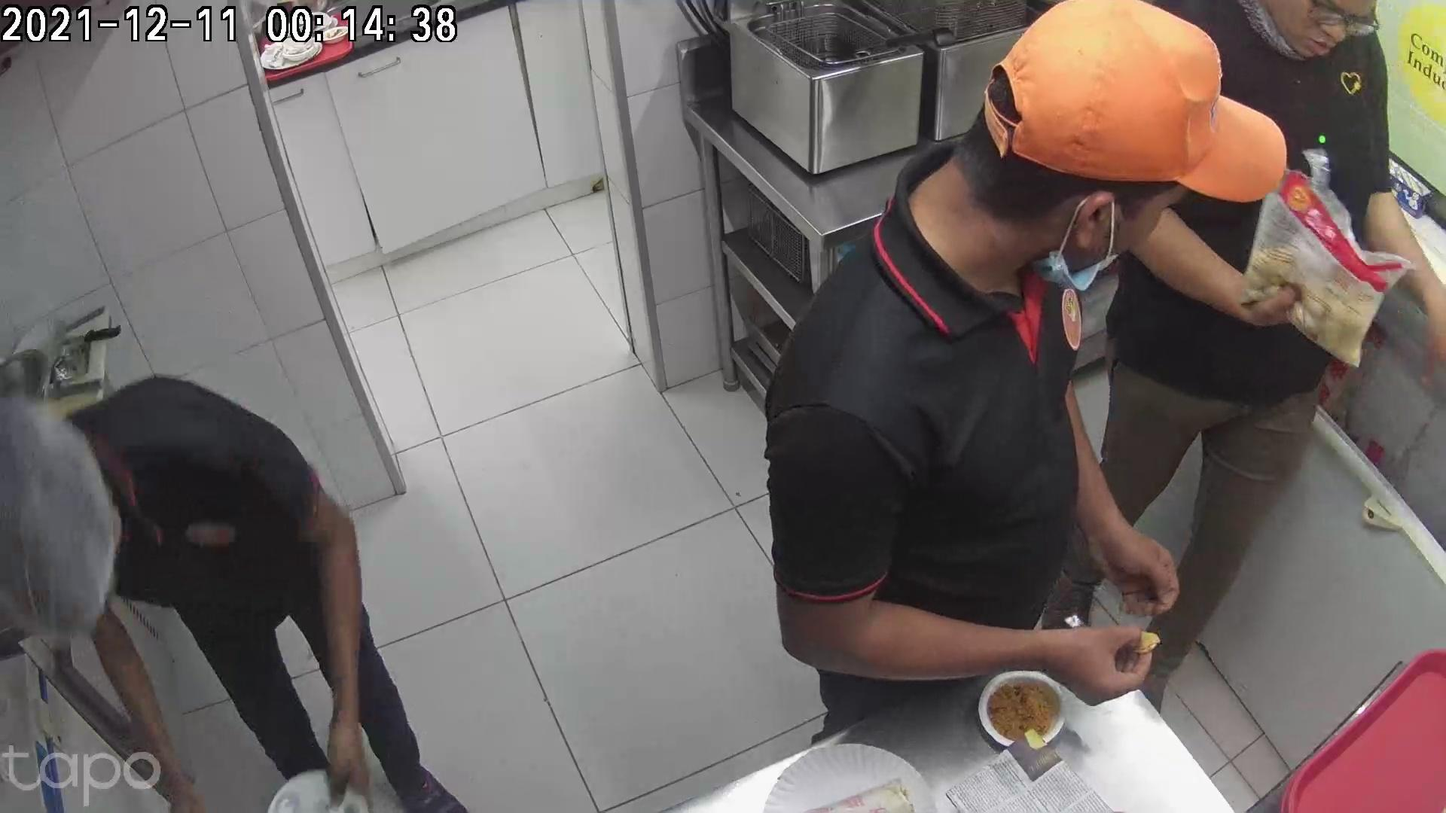gloves: (503, 535, 571, 666)
no_gloves: (946, 446, 1007, 557)
